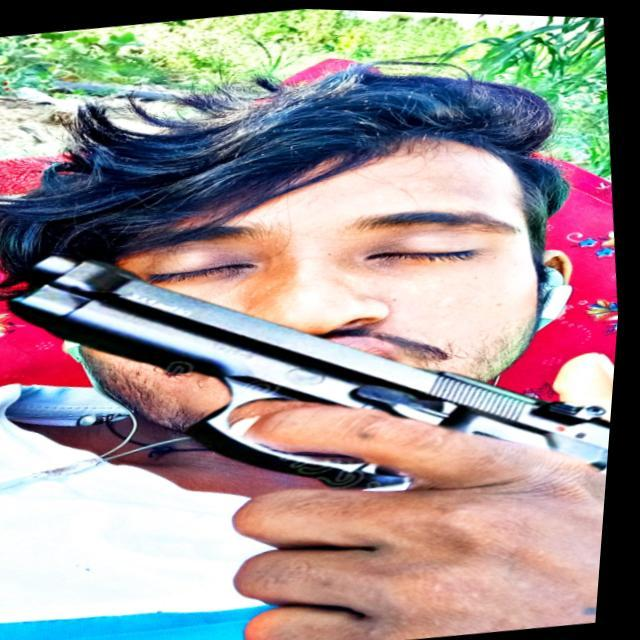weapon: (0, 181, 629, 632)
